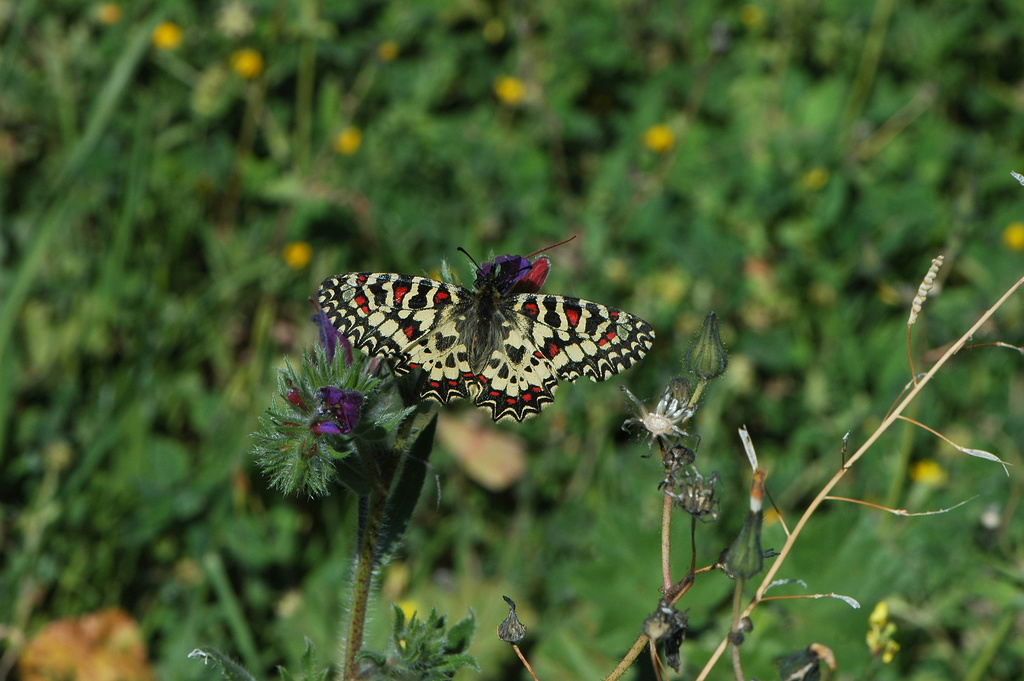Butterfly: (299, 241, 671, 413)
